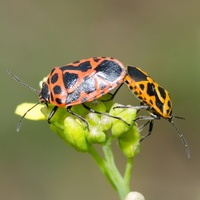insect: (124, 66, 189, 158), (39, 57, 125, 122)
